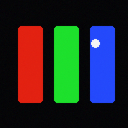0 point: (91, 39, 99, 47)
